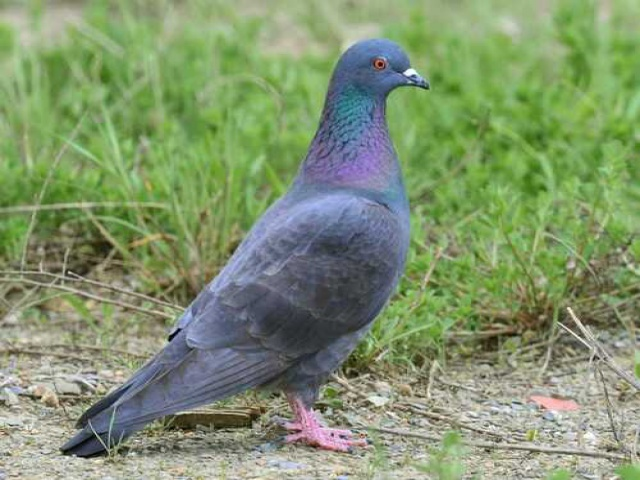Pigeon: (64, 33, 436, 475)
